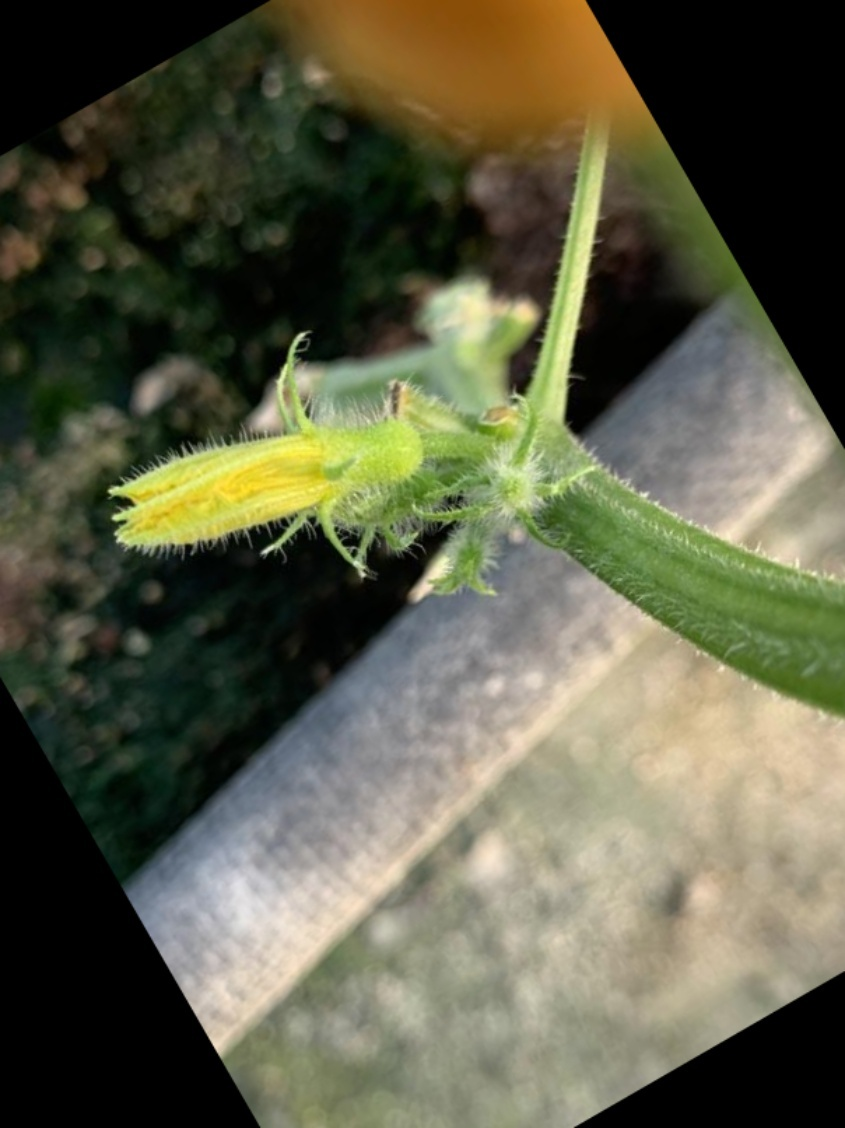bud: (89, 353, 455, 584)
